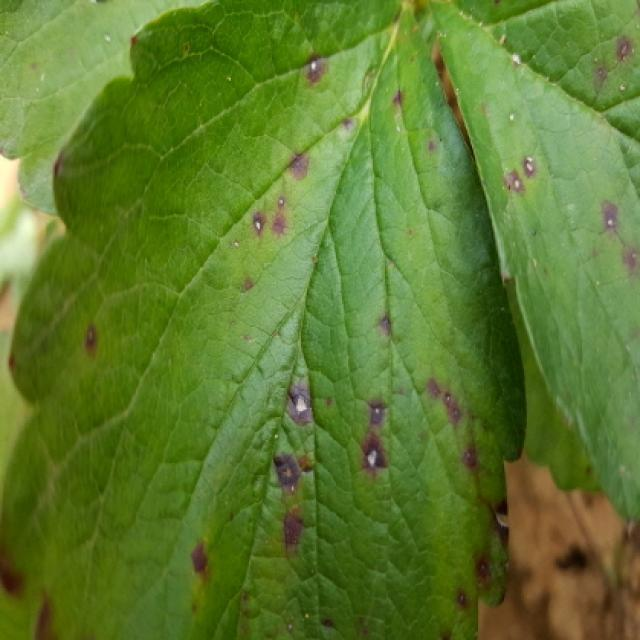Leaf Spot: (0, 0, 526, 638), (420, 0, 638, 523)
